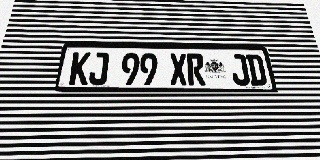9: (121, 53, 140, 85), (140, 53, 157, 85)
D: (245, 54, 268, 85)
J: (88, 52, 109, 85), (229, 54, 250, 85)
K: (68, 52, 91, 85)
R: (186, 54, 206, 85)
X: (169, 53, 188, 85)
